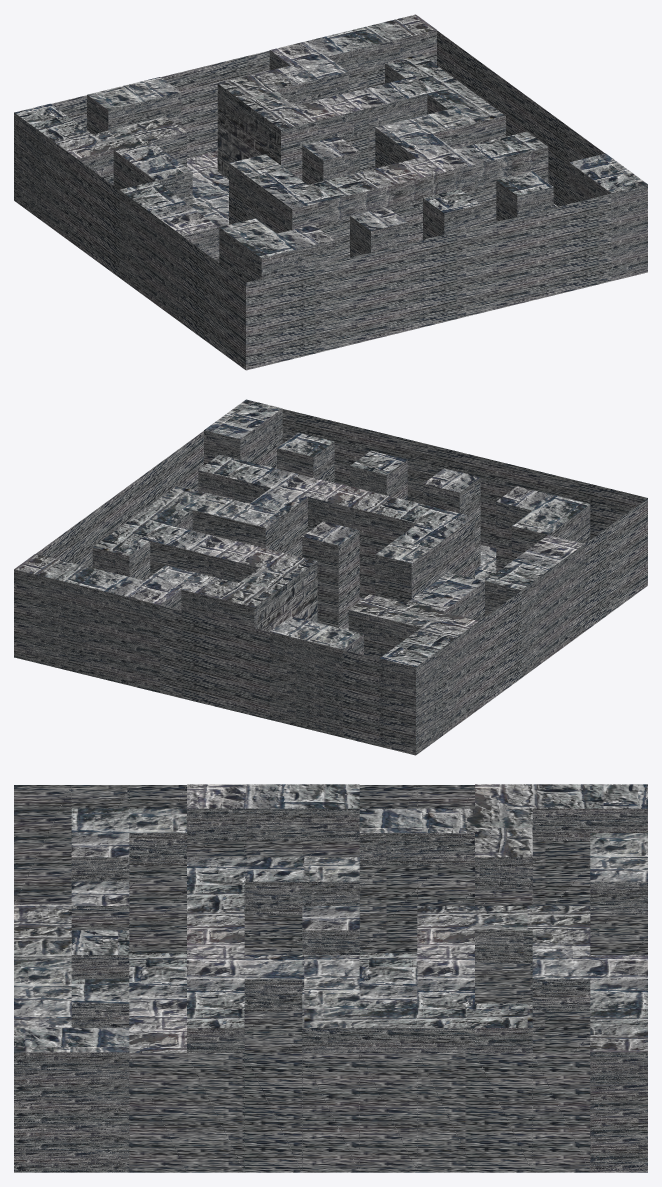
The model's file is Castle_Maze.fbx.
3 views of the same model, one above another, from view 1: azimuth 30°, elevation 25°; view 2: azimuth 150°, elevation 25°; view 3: azimuth 270°, elevation 25° (orthographic). The views are drawn at different scales.
Parts seen in each view (by area): view 1: Plane; view 2: Plane; view 3: Plane.
Part boxes in pixels (x1=…): Plane: x1=14, y1=14, x2=647, y2=370; Plane: x1=14, y1=399, x2=647, y2=755; Plane: x1=14, y1=784, x2=647, y2=1172.
Bounding box in the file's own units: 20 × 4.19 × 20.
